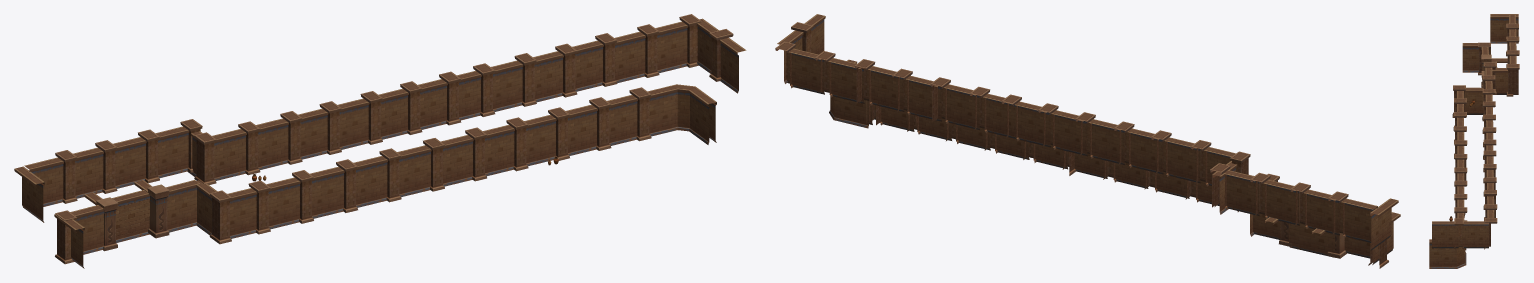
File: Area_13_11.fbx
3 views of the same model, side by side, from view 1: azimuth 30°, elevation 25°; view 2: azimuth 150°, elevation 25°; view 3: azimuth 270°, elevation 25° (orthographic). The views are drawn at different scales.
Parts seen in each view (by area): view 1: Area_13_11; view 2: Area_13_11; view 3: Area_13_11.
Part boxes in pixels (x1,y1,x2,y2): Area_13_11: (14, 14, 746, 268); Area_13_11: (775, 14, 1400, 268); Area_13_11: (1429, 14, 1519, 268).
Bounding box in the file's own units: 12214 × 1506 × 2180.
